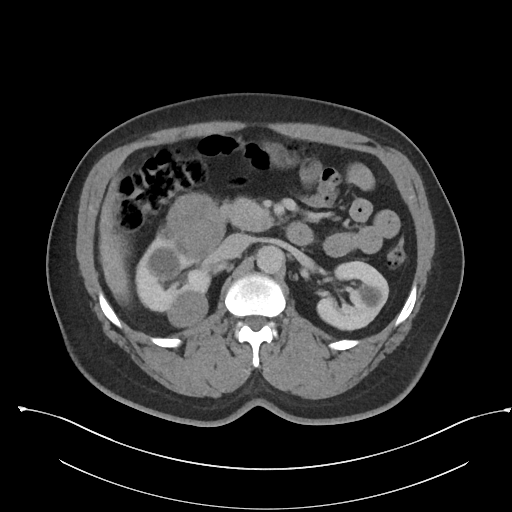Lesion: (356, 280, 387, 311)
